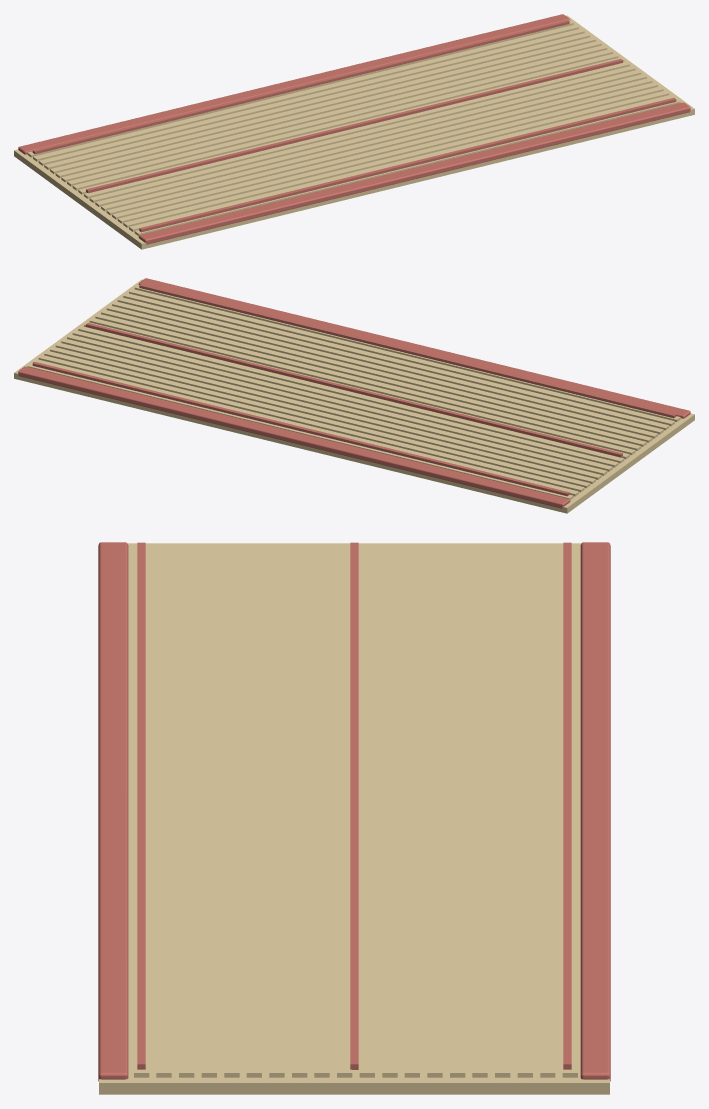
The model's file is laid-mat-run-e502ec62.glb.
3 views of the same model, one above another, from view 1: azimuth 30°, elevation 25°; view 2: azimuth 150°, elevation 25°; view 3: azimuth 270°, elevation 25° (orthographic). The views are drawn at different scales.
Visible parts, largest first — view 1: laid-mat-run; view 2: laid-mat-run; view 3: laid-mat-run.
Part boxes in pixels (box(x1,y1,x2,y2)): laid-mat-run: box(14, 14, 694, 249); laid-mat-run: box(14, 278, 694, 513); laid-mat-run: box(98, 542, 610, 1094).
Size of the model in its own units: 3 by 0.0551 by 1.2.
